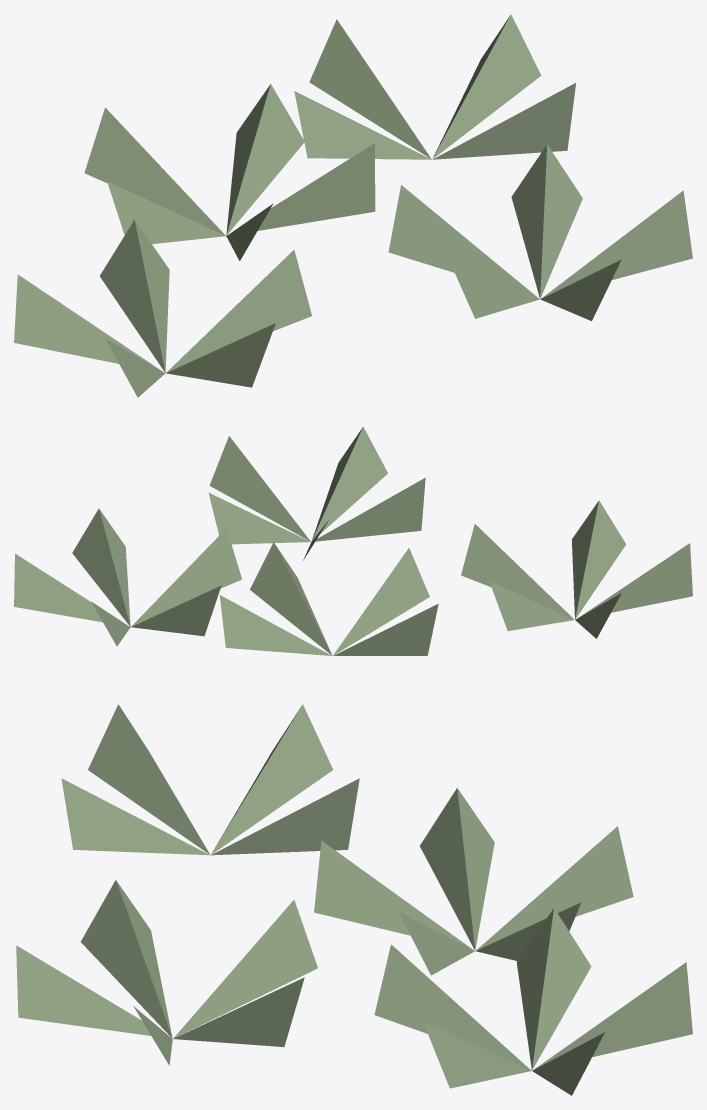
The picture shows the model from 3 angles, top to bottom: view 1: azimuth 30°, elevation 25°; view 2: azimuth 150°, elevation 25°; view 3: azimuth 270°, elevation 25°; orthographic projection. The views are drawn at different scales.
Bounding box in the file's own units: 4.32 × 0.57 × 3.59.
